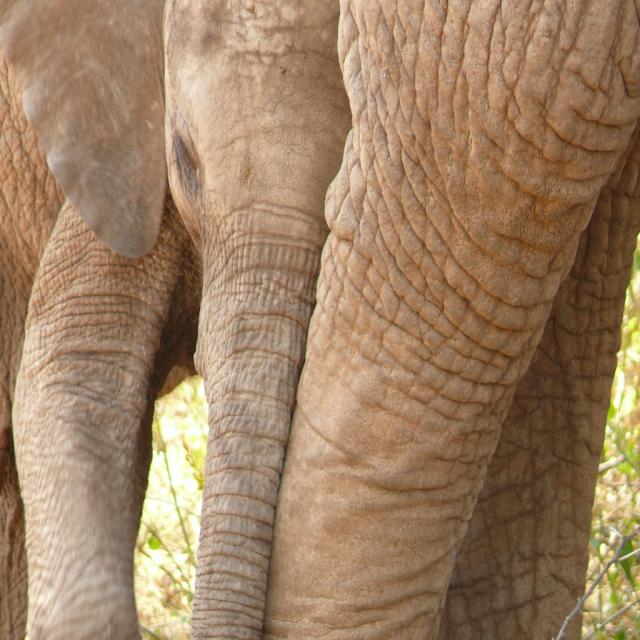elephant: (267, 0, 639, 639), (0, 0, 358, 639)
